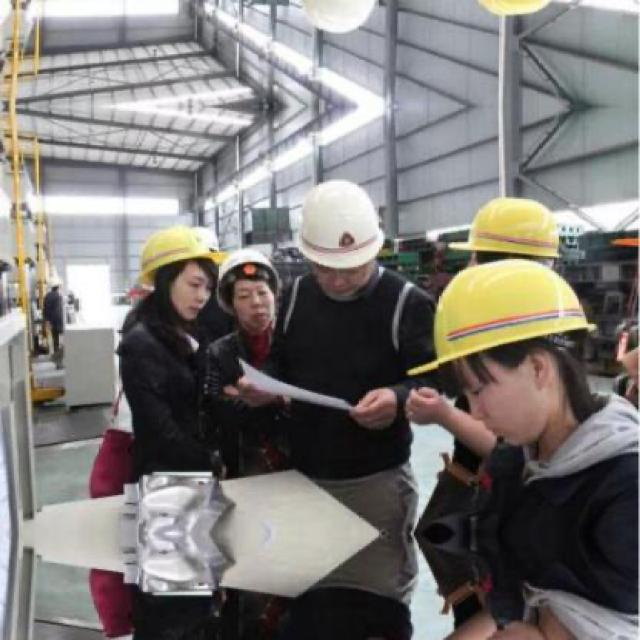con casco: (430, 284, 590, 440), (296, 180, 388, 296), (127, 222, 232, 320), (459, 195, 560, 287), (208, 246, 284, 320)
